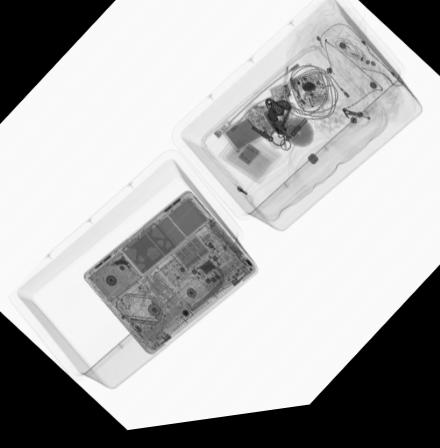Powerbank: (222, 116, 272, 160)
